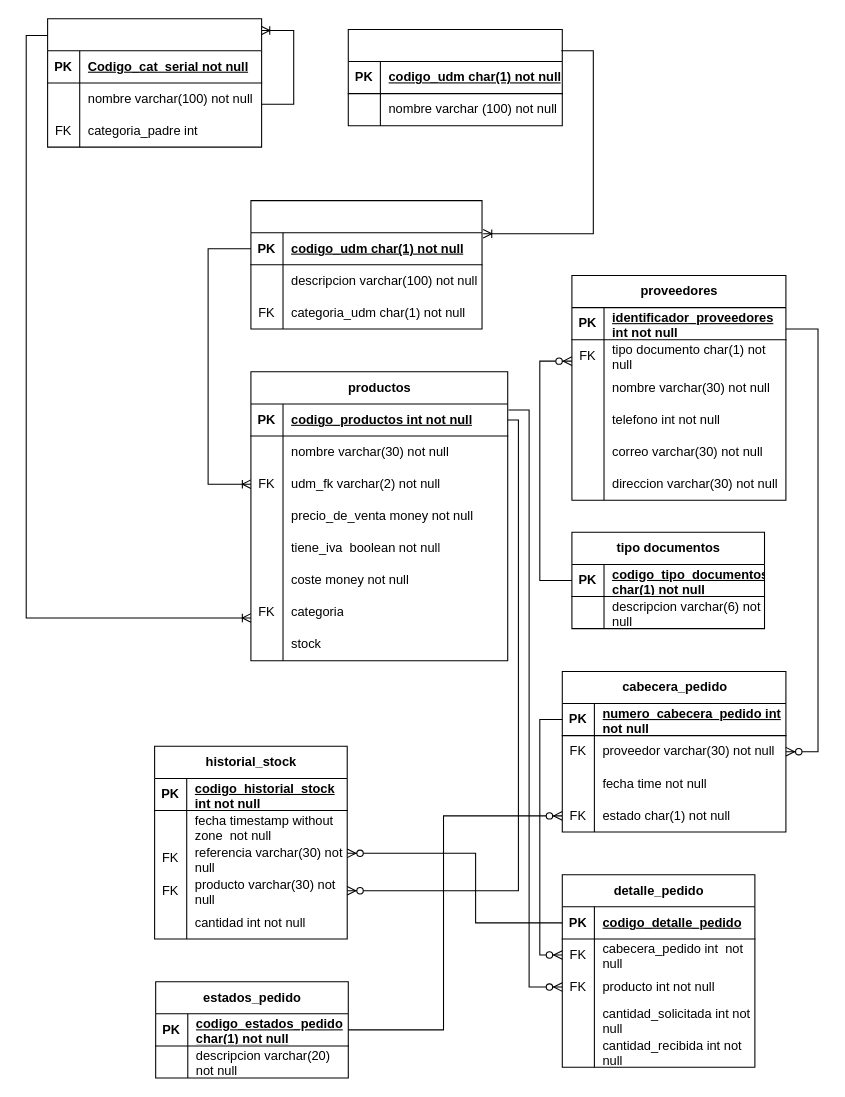
Image size: 845x1097. Some labels were removed from this diagram. Here are the shapes that lost their labels. From the top down, the box of each, then its label:
(47, 18, 262, 147): categorias
(347, 28, 562, 126): categorias_unidad_medida
(250, 200, 482, 329): unidades_medida
